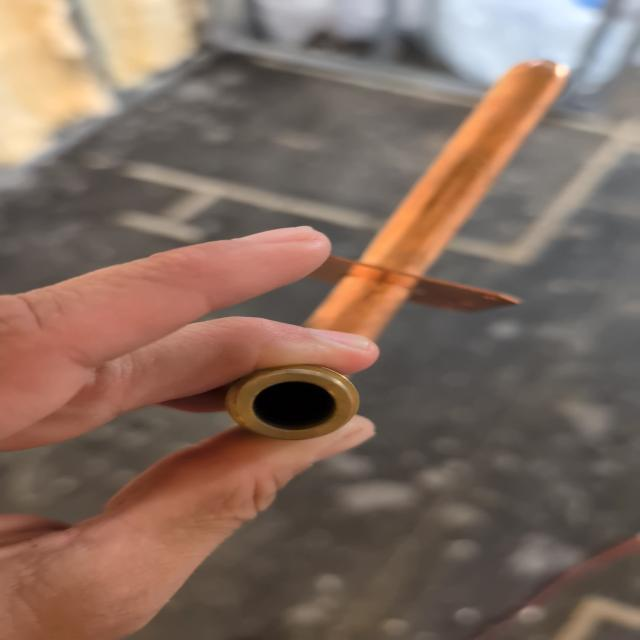wall_flange: (219, 27, 587, 451)
